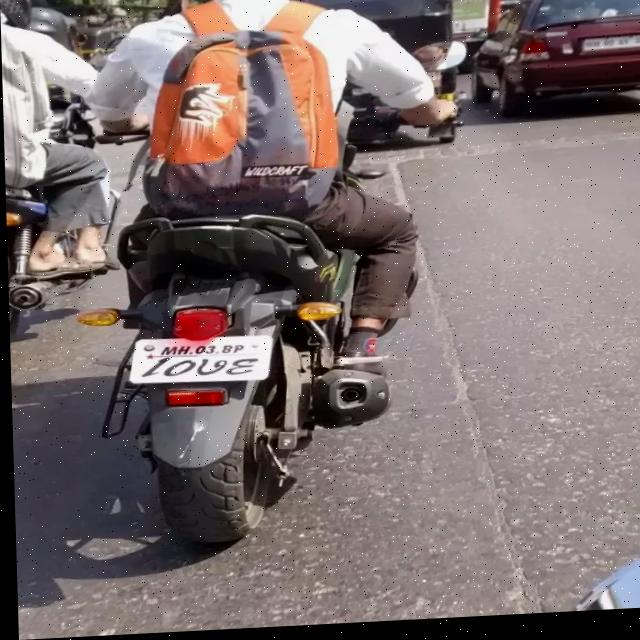plate: (123, 334, 272, 389), (582, 42, 640, 58)
